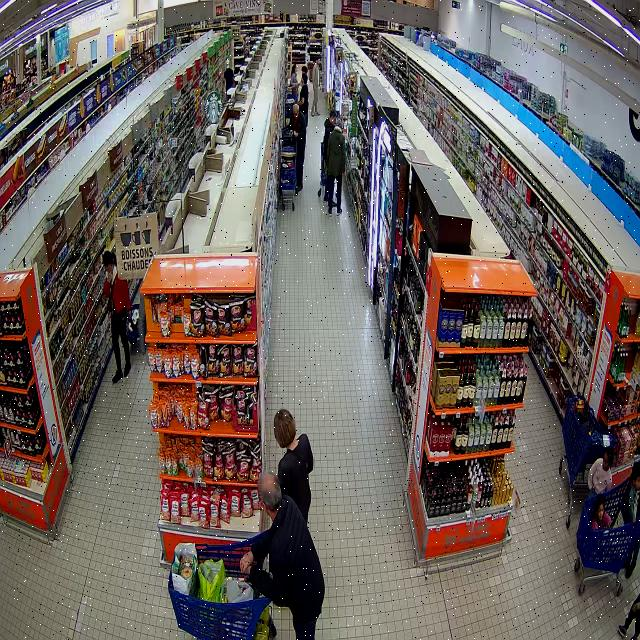article: (293, 130, 297, 135)
hands: (240, 551, 254, 573), (107, 271, 112, 283), (295, 132, 298, 137)
person: (240, 473, 324, 640), (274, 408, 314, 522), (102, 251, 131, 383), (325, 124, 346, 216), (290, 104, 306, 194), (621, 463, 640, 525), (588, 450, 612, 495), (321, 109, 337, 164), (591, 495, 611, 529), (624, 539, 640, 578), (324, 189, 328, 201)
